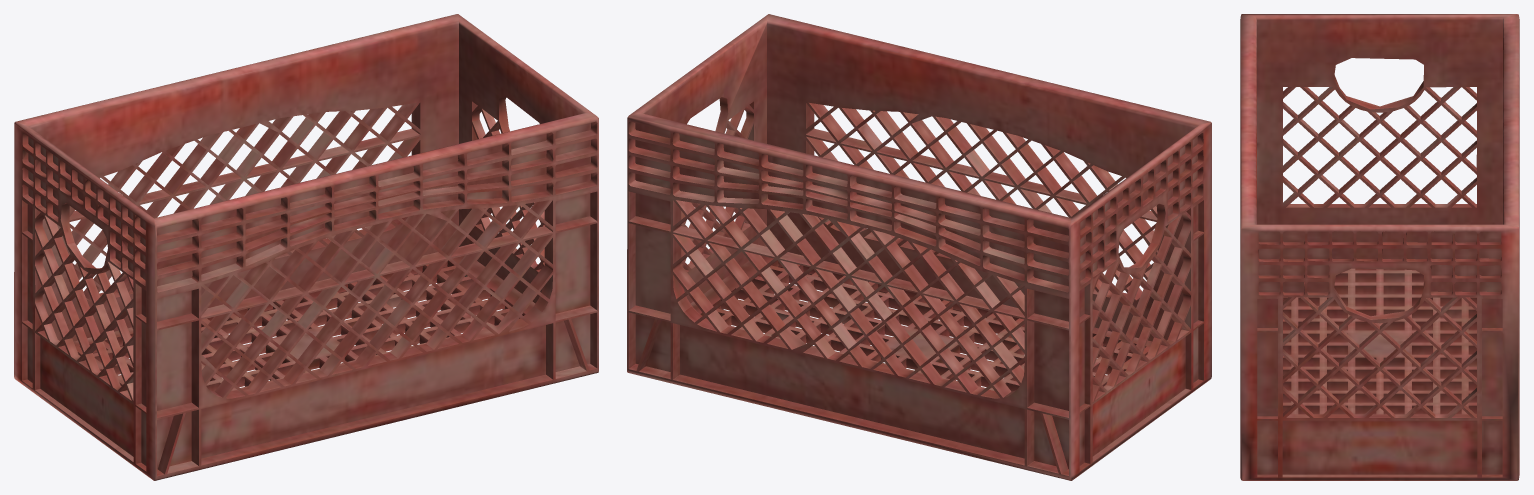
Rendered from plastic_crate_03.glb.
3 views of the same model, side by side, from view 1: azimuth 30°, elevation 25°; view 2: azimuth 150°, elevation 25°; view 3: azimuth 270°, elevation 25° (orthographic).
Parts seen in each view (by area): view 1: plastic_crate_03; view 2: plastic_crate_03; view 3: plastic_crate_03.
Part boxes in pixels (left/top/right/bottom): plastic_crate_03: left=14, top=14, right=598, bottom=480; plastic_crate_03: left=627, top=14, right=1211, bottom=480; plastic_crate_03: left=1240, top=14, right=1519, bottom=480.
Bounding box in the file's own units: 0.4811 × 0.2659 × 0.265.
Materials: 1 (1 with a texture image).
